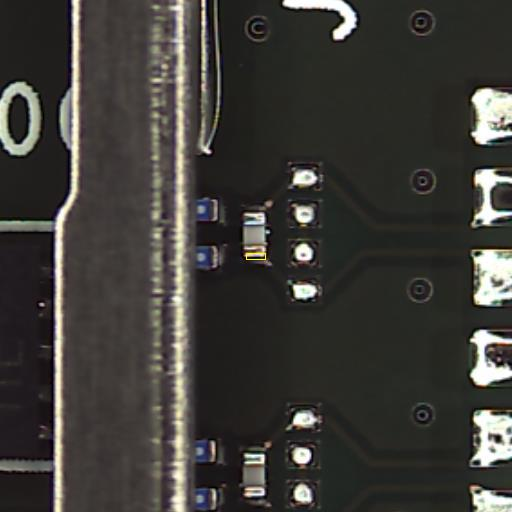bottom_layer: (242, 205, 267, 263), (242, 447, 267, 502)
top_layer: (242, 212, 265, 256), (243, 454, 265, 498)
